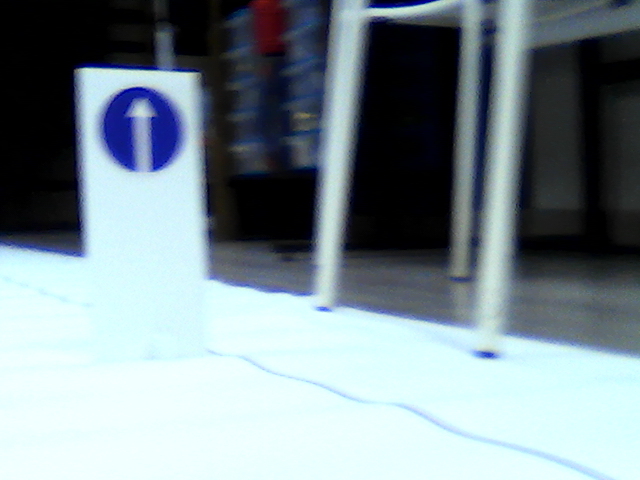forw: (102, 81, 186, 175)
